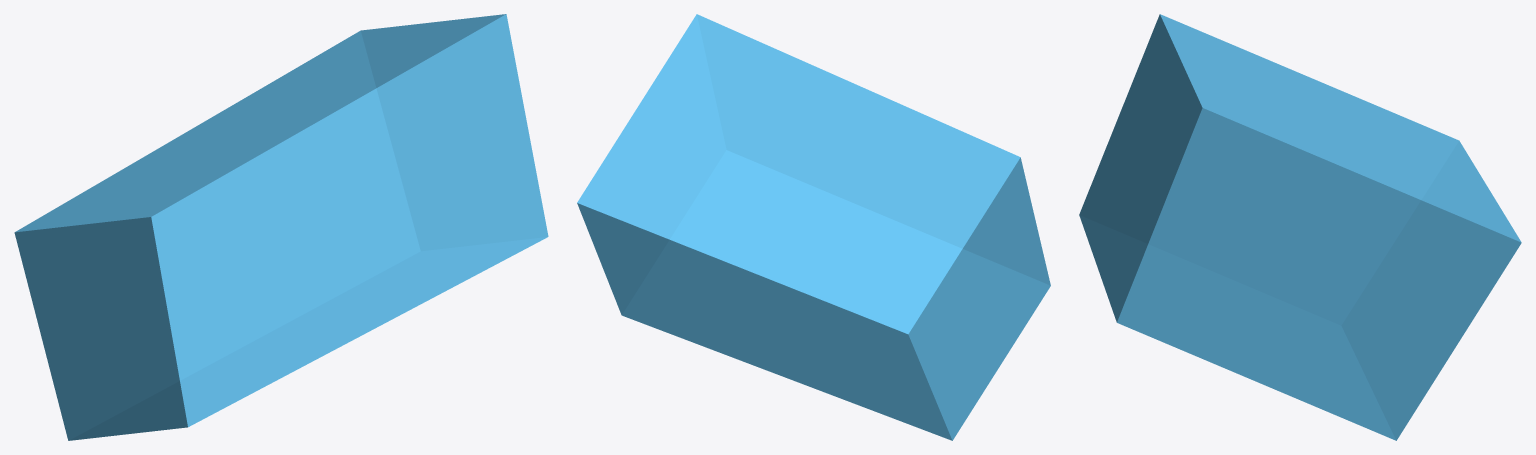
File: Event_421556567_HErechit_58.fbx
3 views of the same model, side by side, from view 1: azimuth 30°, elevation 25°; view 2: azimuth 150°, elevation 25°; view 3: azimuth 270°, elevation 25° (orthographic). The views are drawn at different scales.
Visible parts, largest first — view 1: Model; view 2: Model; view 3: Model.
Boxes of the visible parts, x1,y1,x2,y2 form: Model: (14,14,548,440); Model: (577,14,1050,440); Model: (1079,14,1521,440).
Size of the model in its own units: 0.7358 by 0.711 by 0.6822.
